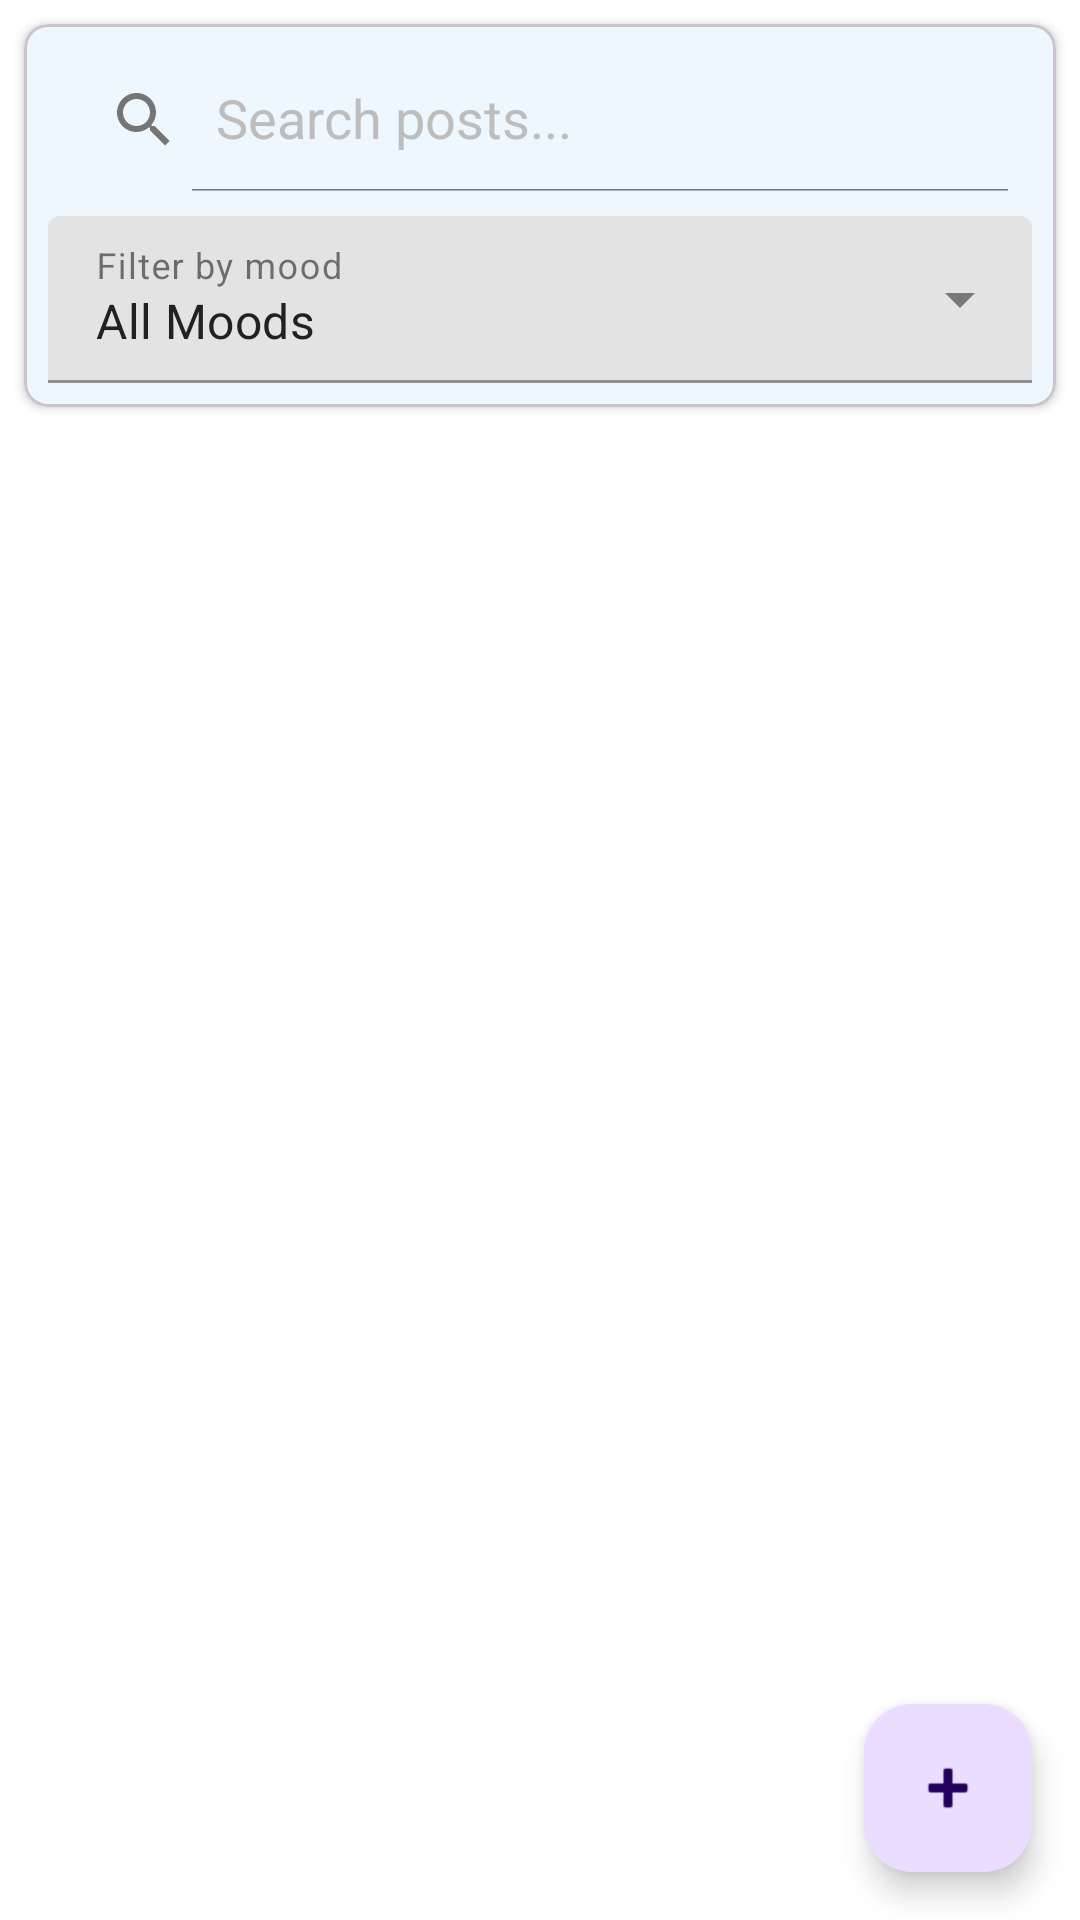

Icons on this 1080 × 1920 Android screen, each with the point to tap as (x=x, y=y):
Add new post: (x=948, y=1788)
